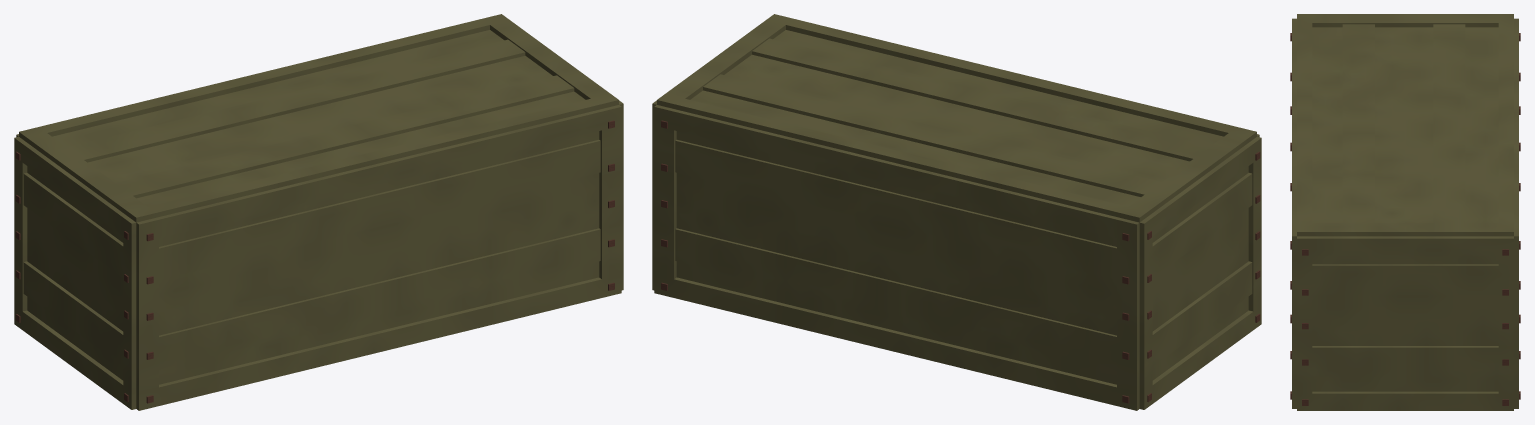
Rendered from BoxMiddleGreen.fbx.
The picture shows the model from 3 angles, left to right: view 1: azimuth 30°, elevation 25°; view 2: azimuth 150°, elevation 25°; view 3: azimuth 270°, elevation 25°; orthographic projection. The views are drawn at different scales.
Visible parts, largest first — view 1: Cube.018; view 2: Cube.018; view 3: Cube.018.
Boxes of the visible parts, box(x1,y1,x2,y2) form: Cube.018: box(14, 14, 623, 410); Cube.018: box(652, 14, 1261, 410); Cube.018: box(1290, 14, 1520, 410).
Bounding box in the file's own units: 304 × 112 × 132.
